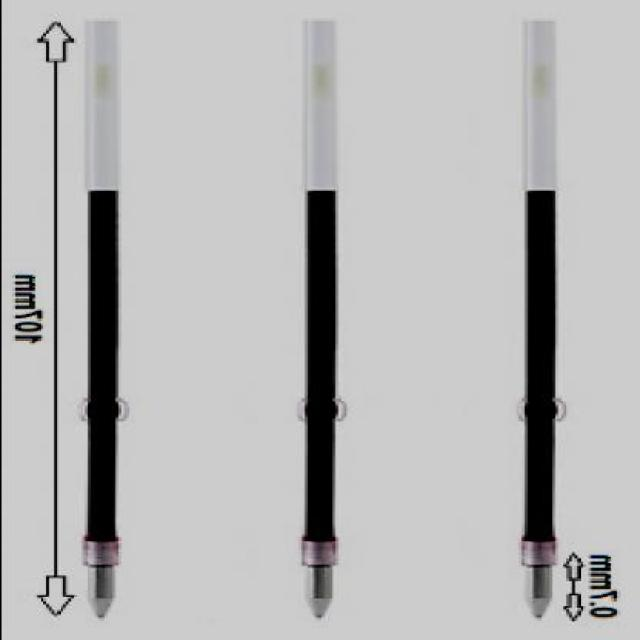pen: (84, 19, 121, 619), (303, 19, 337, 615), (525, 14, 556, 621)
